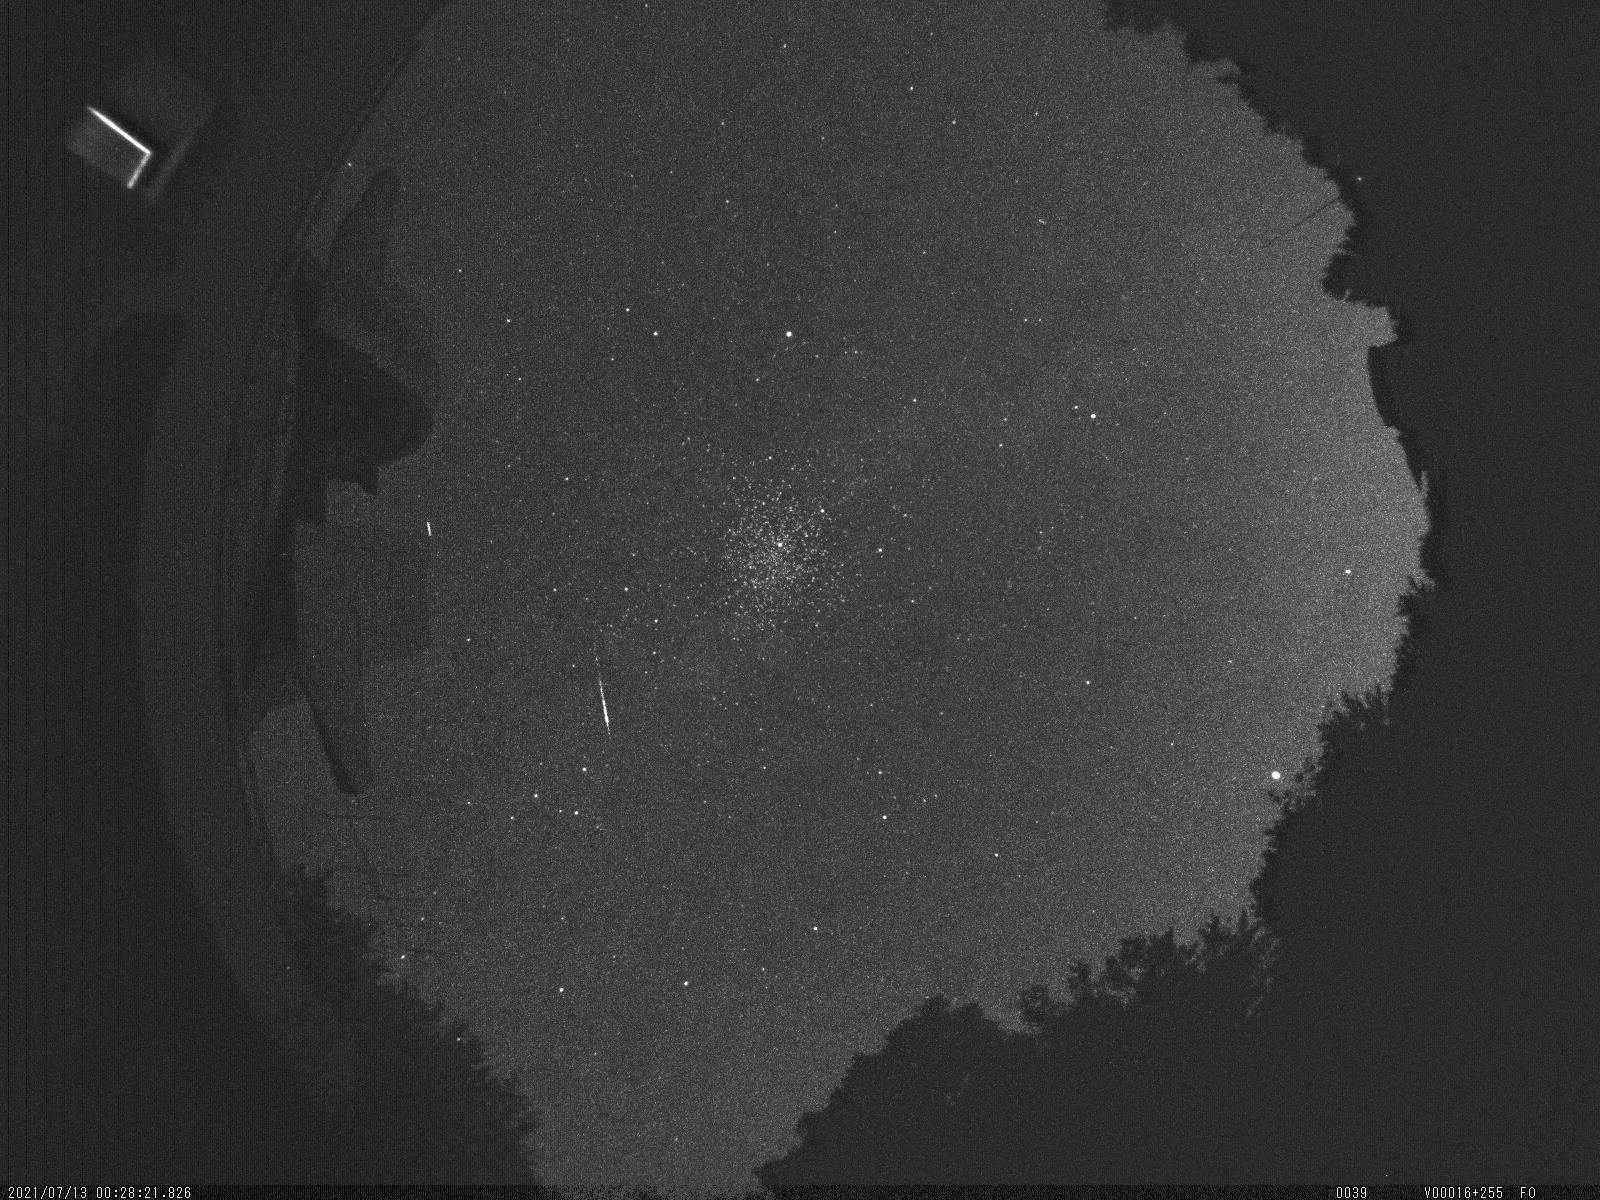Meteor: (594, 672, 618, 738)
